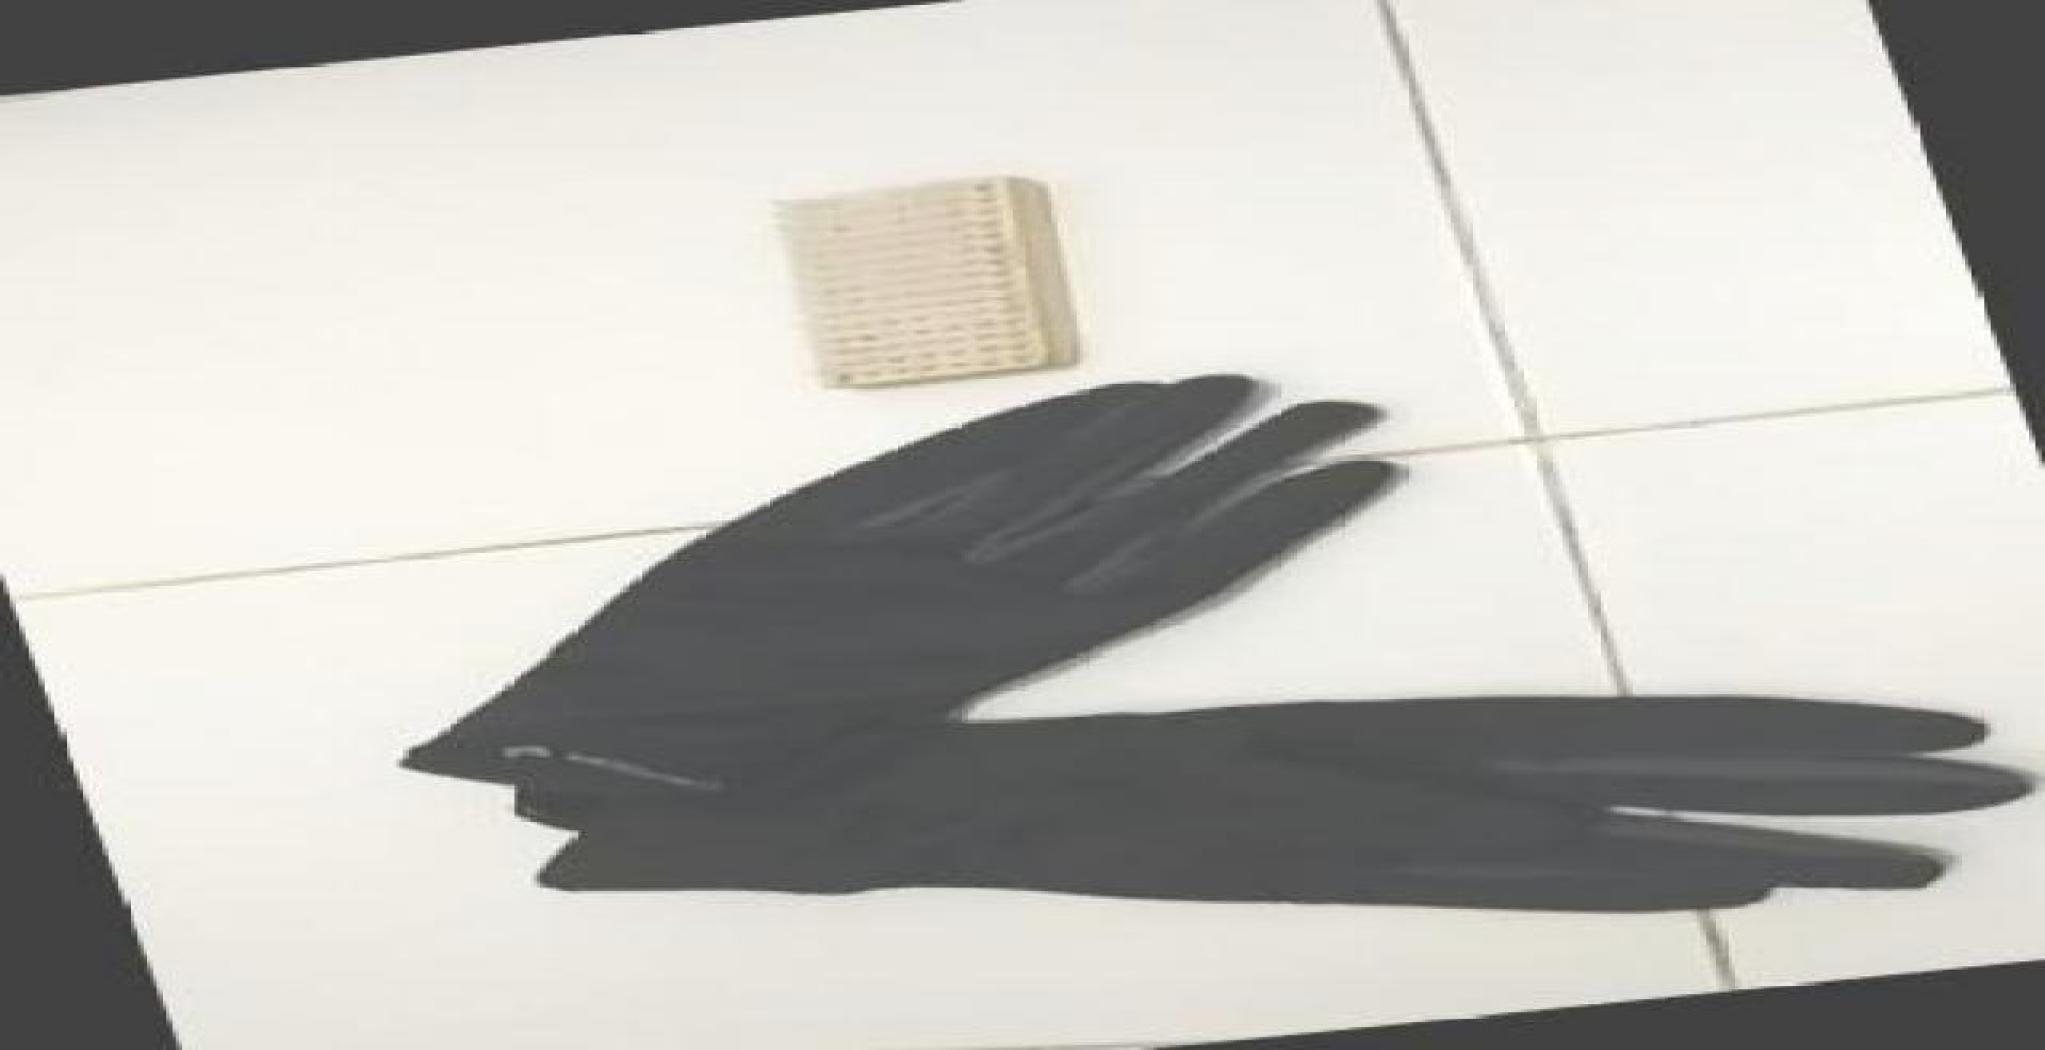gloved: (408, 373, 1398, 758), (568, 722, 2007, 918)
